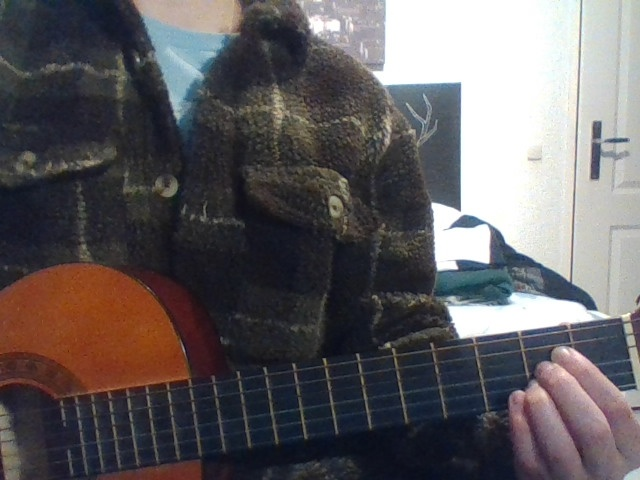A: (479, 319, 640, 480)
